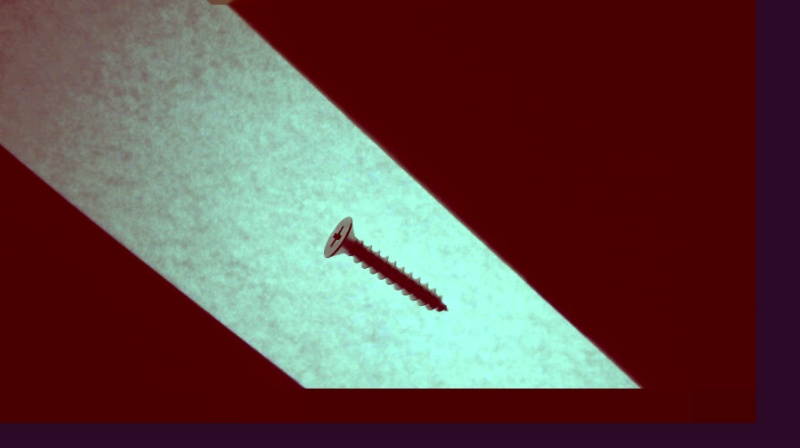S001: (319, 214, 448, 315)
